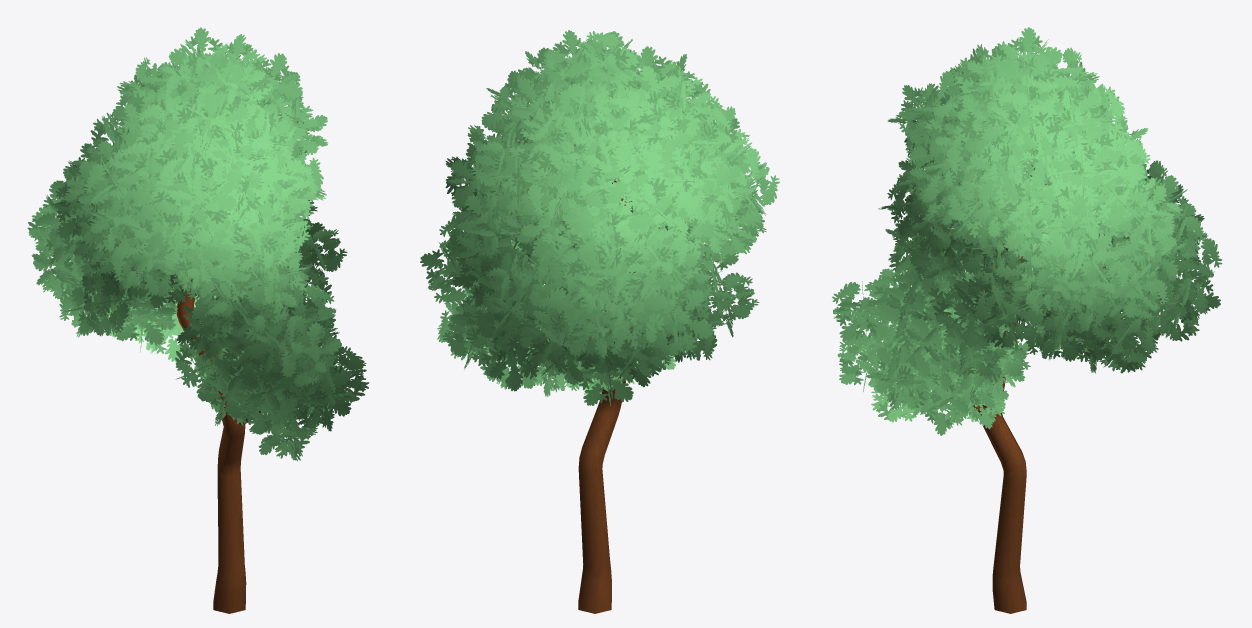
The model's file is STOak1.glb.
3 views of the same model, side by side, from view 1: azimuth 30°, elevation 25°; view 2: azimuth 150°, elevation 25°; view 3: azimuth 270°, elevation 25° (orthographic). The views are drawn at different scales.
Parts seen in each view (by area): view 1: Leaf.016; view 2: Leaf.016; view 3: Leaf.016.
Part boxes in pixels (x1,y1,x2,y2): Leaf.016: (27,27,369,613); Leaf.016: (420,30,779,613); Leaf.016: (832,27,1222,613).
Bounding box in the file's own units: 11.63 × 21.8 × 14.23.
2 materials, 2 textured.
